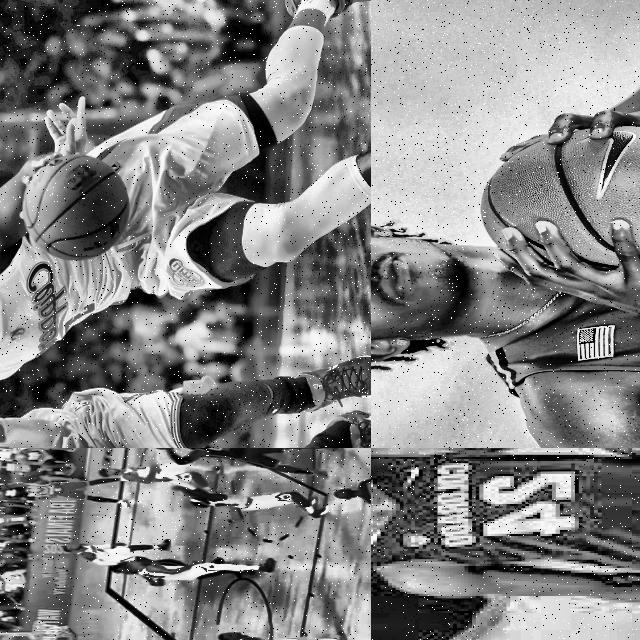Basketball: (481, 125, 640, 267), (23, 153, 128, 259)
